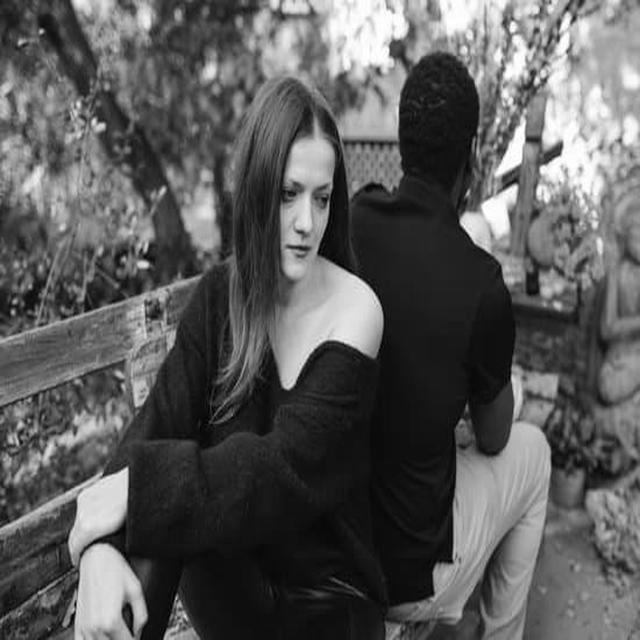Sadness: (282, 130, 336, 280)
